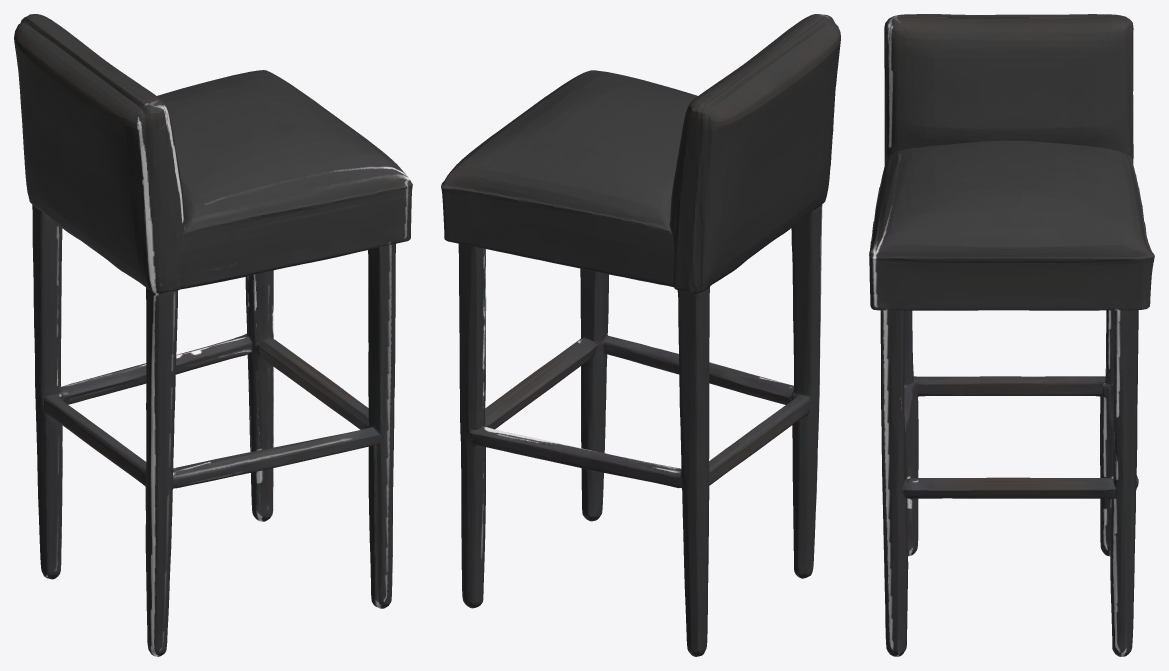
File: bar_stool_37.obj
3 views of the same model, side by side, from view 1: azimuth 30°, elevation 25°; view 2: azimuth 150°, elevation 25°; view 3: azimuth 270°, elevation 25° (orthographic). The views are drawn at different scales.
Bounding box in the file's own units: 0.5164 × 1 × 0.4861.
Materials: 1 (1 with a texture image).
